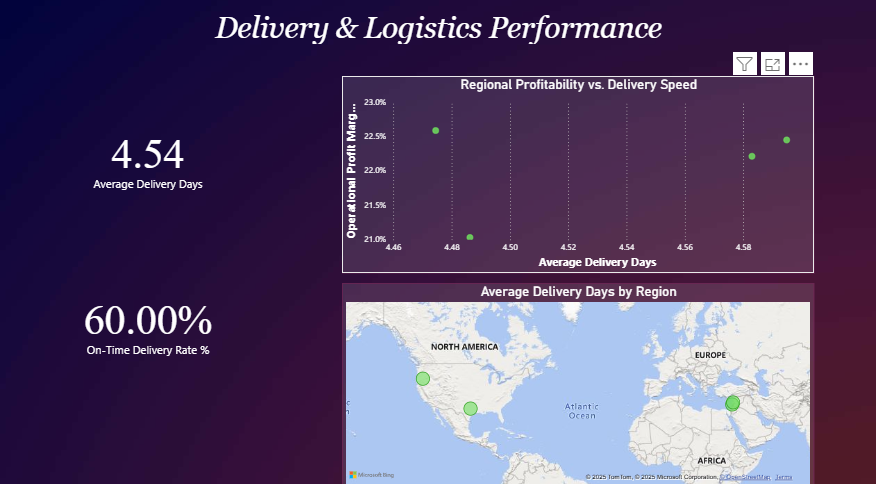

This screenshot's page, from the dashboard's own definition file:
{"tool":"powerbi","page":{"name":"Delivery & Logistics Performance","canvas":[1280,720],"ordinal":2},"visuals":[{"type":"card","fields":{"Values":["Sample Data.Average Delivery Days"]},"box":[80.6,169.9,279.4,145.4],"z":0},{"type":"textbox","box":[40.3,25.9,1196.6,73.4],"z":1000},{"type":"card","fields":{"Values":["Sample Data.On-Time Delivery Rate %"]},"box":[80.6,409,279.4,145.4],"z":2000},{"type":"map","fields":{"Category":["Sample Data.Region"],"Size":["Sample Data.Average Delivery Days"]},"box":[499.7,423.4,679.7,296.6],"z":3000},{"type":"scatterChart","title":"Regional Profitability vs. Delivery Speed","fields":{"Category":["Sample Data.Region"],"X":["Sample Data.Average Delivery Days"],"Y":["Sample Data.Operational Profit Margin %"]},"box":[499.7,125.3,679.7,283.7],"z":4000}]}

Visuals, with their boxes in screenshot pixels (x1, y1, x2, y2), scaled from the page's 1280x720 canvas onto the 876x484 screenshot:
card - Sample Data.Average Delivery Days: Rect(55, 114, 246, 212)
textbox: Rect(28, 17, 847, 67)
card - Sample Data.On-Time Delivery Rate %: Rect(55, 275, 246, 373)
map - Sample Data.Region x Sample Data.Average Delivery Days: Rect(342, 285, 807, 483)
"Regional Profitability vs. Delivery Speed" scatterChart: Rect(342, 84, 807, 275)
